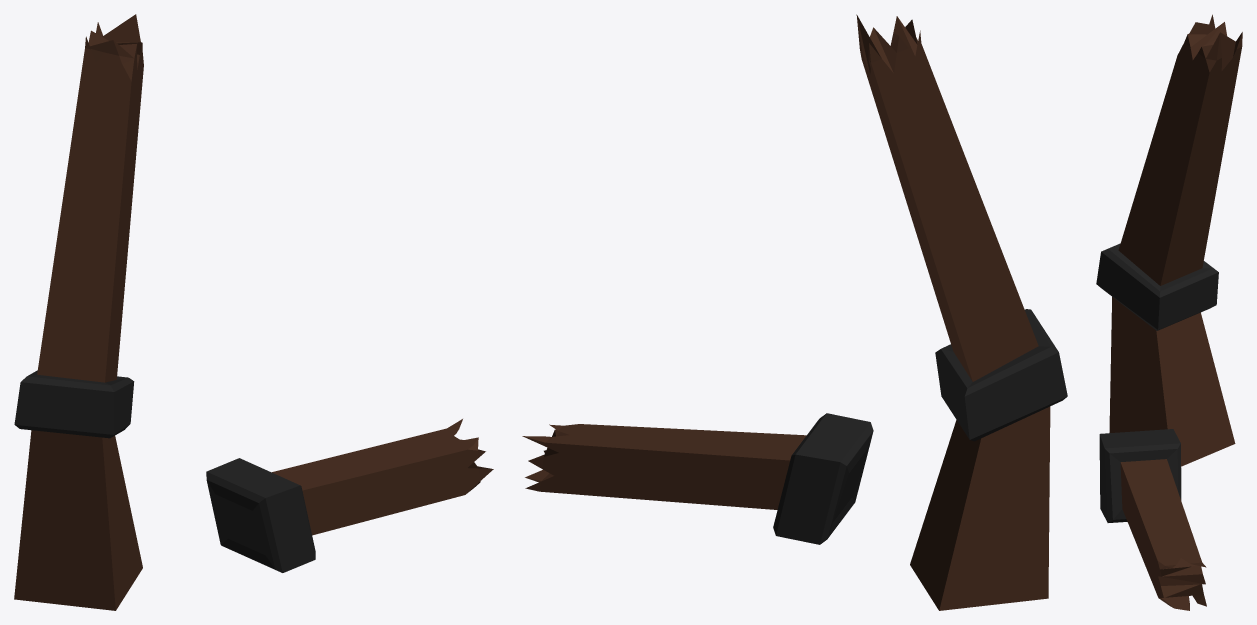
Rendered from WoodenBeams_04.fbx.
3 views of the same model, side by side, from view 1: azimuth 30°, elevation 25°; view 2: azimuth 150°, elevation 25°; view 3: azimuth 270°, elevation 25° (orthographic). The views are drawn at different scales.
Parts seen in each view (by area): view 1: WoodenBeams_04; view 2: WoodenBeams_04; view 3: WoodenBeams_04.
Part boxes in pixels (<box>): WoodenBeams_04: <box>14,14,493,610</box>; WoodenBeams_04: <box>522,14,1067,610</box>; WoodenBeams_04: <box>1096,14,1242,610</box>.
Size of the model in its own units: 3.19 by 0.9841 by 3.31.
